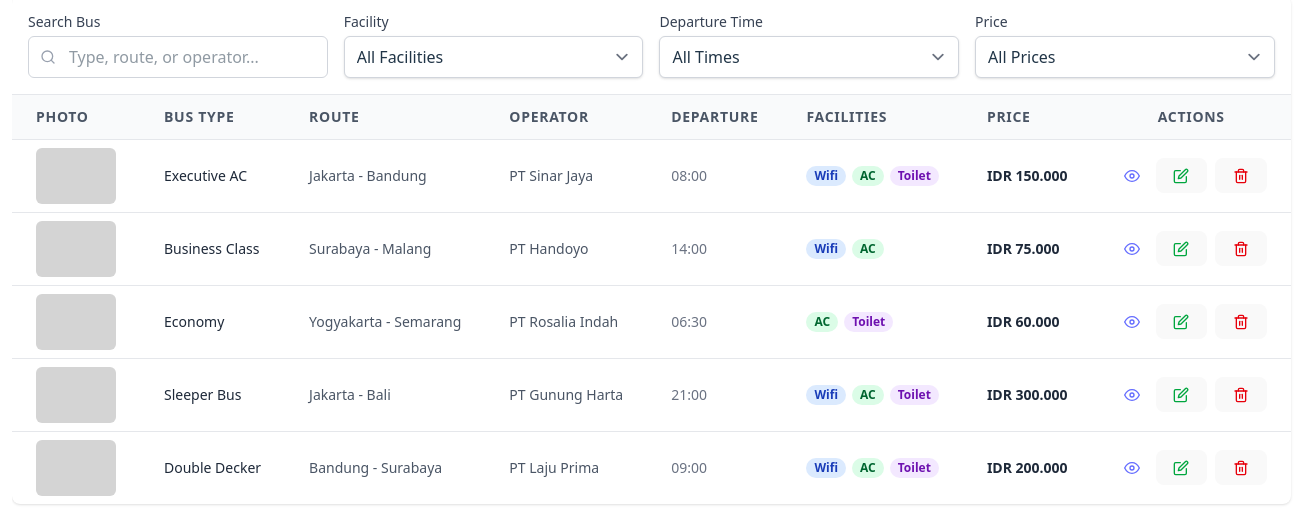
Test: ListBus CRUD Logic Testing › 6. Should filter buses by "Wifi" facility
Step 1. Select "Wifi" in the dropdown labelled "Facility" → (494, 57), box [344,36,643,78]
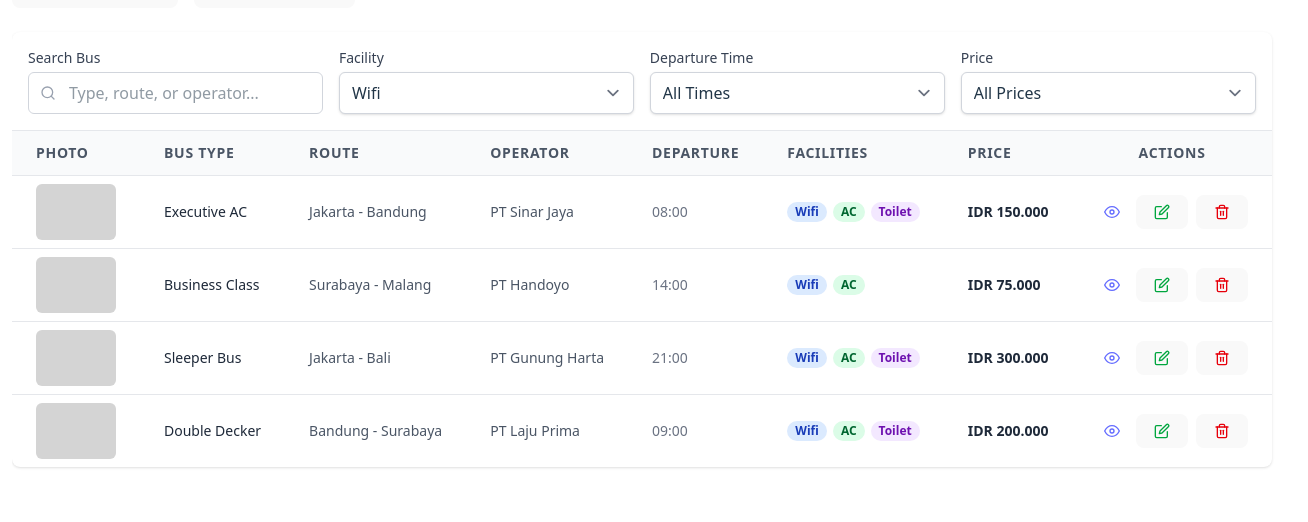
Check: the text "Jakarta - Bandung" is shown, box [285,176,466,249]
Check: the text "Yogyakarta - Semarang" is gone
